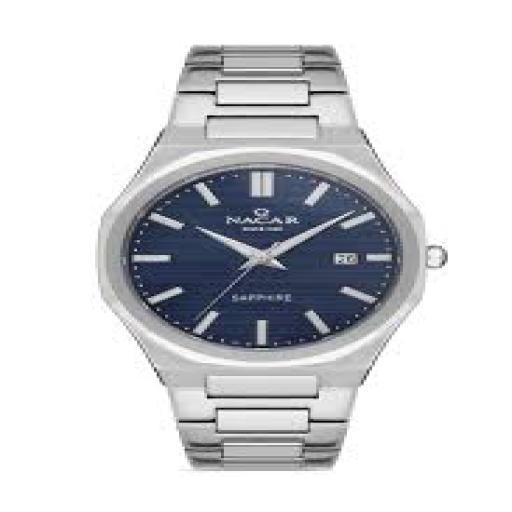KolSaati: (50, 34, 504, 490)
